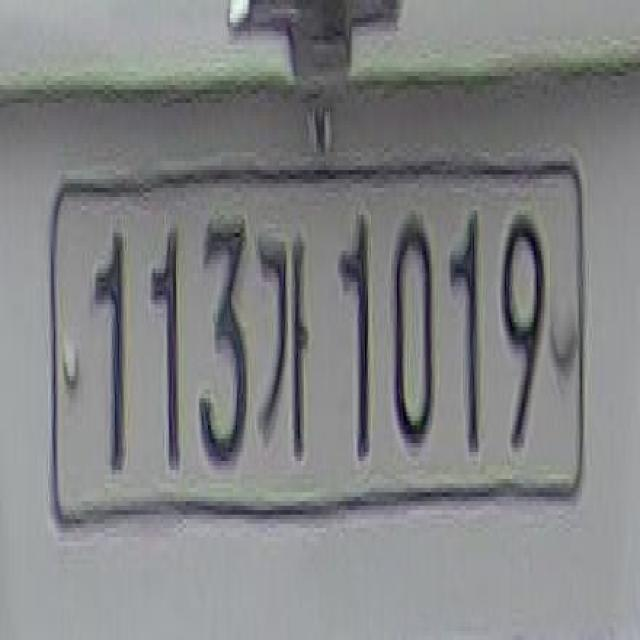illegal_plate: (40, 144, 597, 534)
